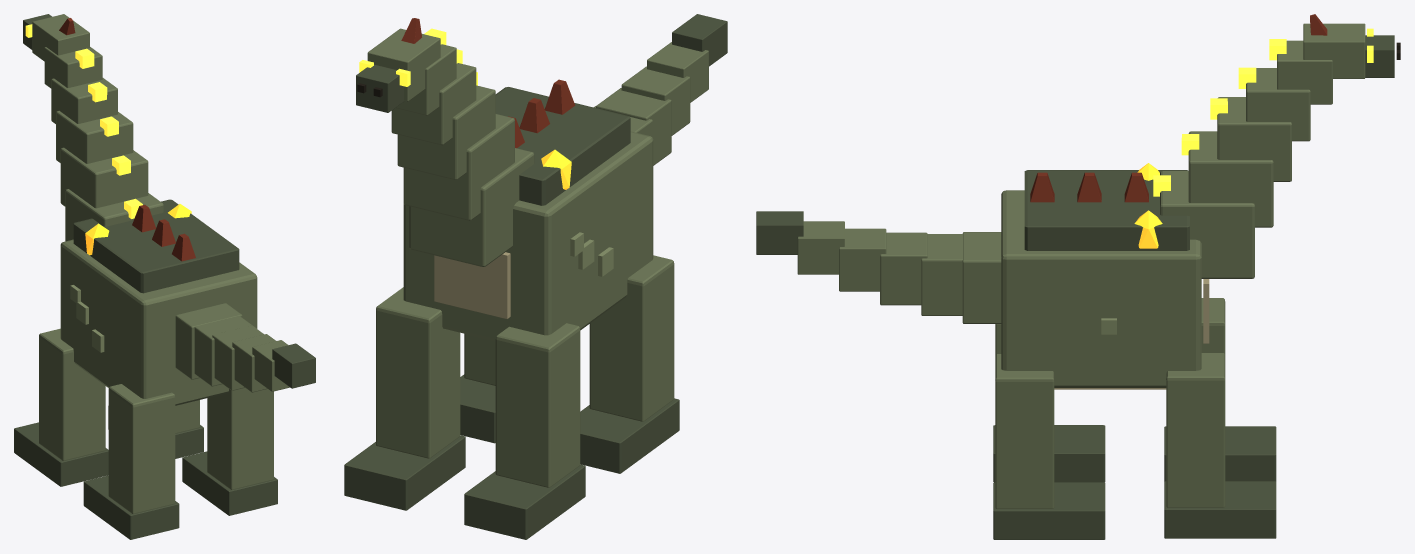
File: bronto.glb
3 renders of one model, left to right at view 1: azimuth 30°, elevation 25°; view 2: azimuth 150°, elevation 25°; view 3: azimuth 270°, elevation 25°, orthographic. The views are drawn at different scales.
Visible parts, largest first — view 1: body, leg.BR, leg.FR, leg.BL, tail, head, leg.FL; view 2: body, leg.FR, leg.FL, leg.BR, tail, head, leg.BL; view 3: body, tail, leg.FL, leg.BL, head, leg.FR, leg.BR.
Part boxes in pixels (bbox=[...]): body: bbox=[44, 47, 257, 405]; leg.BR: bbox=[83, 384, 179, 539]; leg.FR: bbox=[14, 328, 108, 486]; leg.BL: bbox=[182, 388, 277, 515]; tail: bbox=[175, 303, 315, 392]; head: bbox=[23, 14, 89, 61]; leg.FL: bbox=[108, 400, 203, 458]; body: bbox=[391, 28, 653, 341]; leg.FR: bbox=[464, 323, 585, 539]; leg.FL: bbox=[344, 287, 465, 510]; leg.BR: bbox=[580, 255, 679, 473]; tail: bbox=[594, 14, 727, 165]; head: bbox=[356, 18, 440, 112]; leg.BL: bbox=[460, 333, 495, 443]; body: bbox=[1001, 39, 1332, 389]; tail: bbox=[756, 211, 1001, 323]; leg.FL: bbox=[1164, 353, 1276, 538]; leg.BL: bbox=[993, 354, 1105, 539]; head: bbox=[1303, 14, 1400, 78]; leg.FR: bbox=[1164, 298, 1276, 481]; leg.BR: bbox=[993, 324, 1105, 482].
Size of the model in its own units: 0.3823 by 1 by 1.21.
